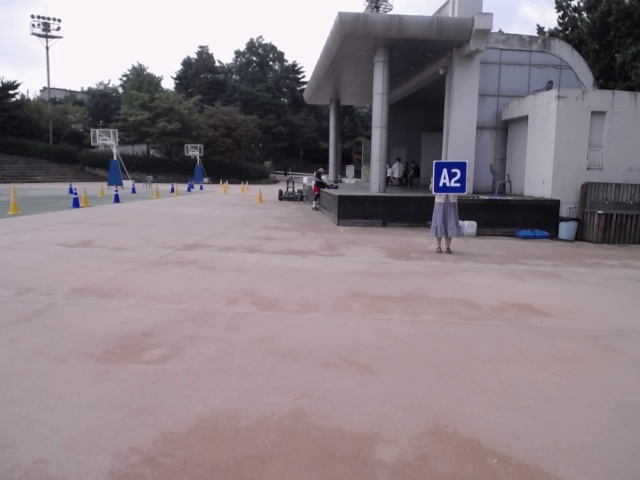delivery_a2: (434, 160, 468, 194)
